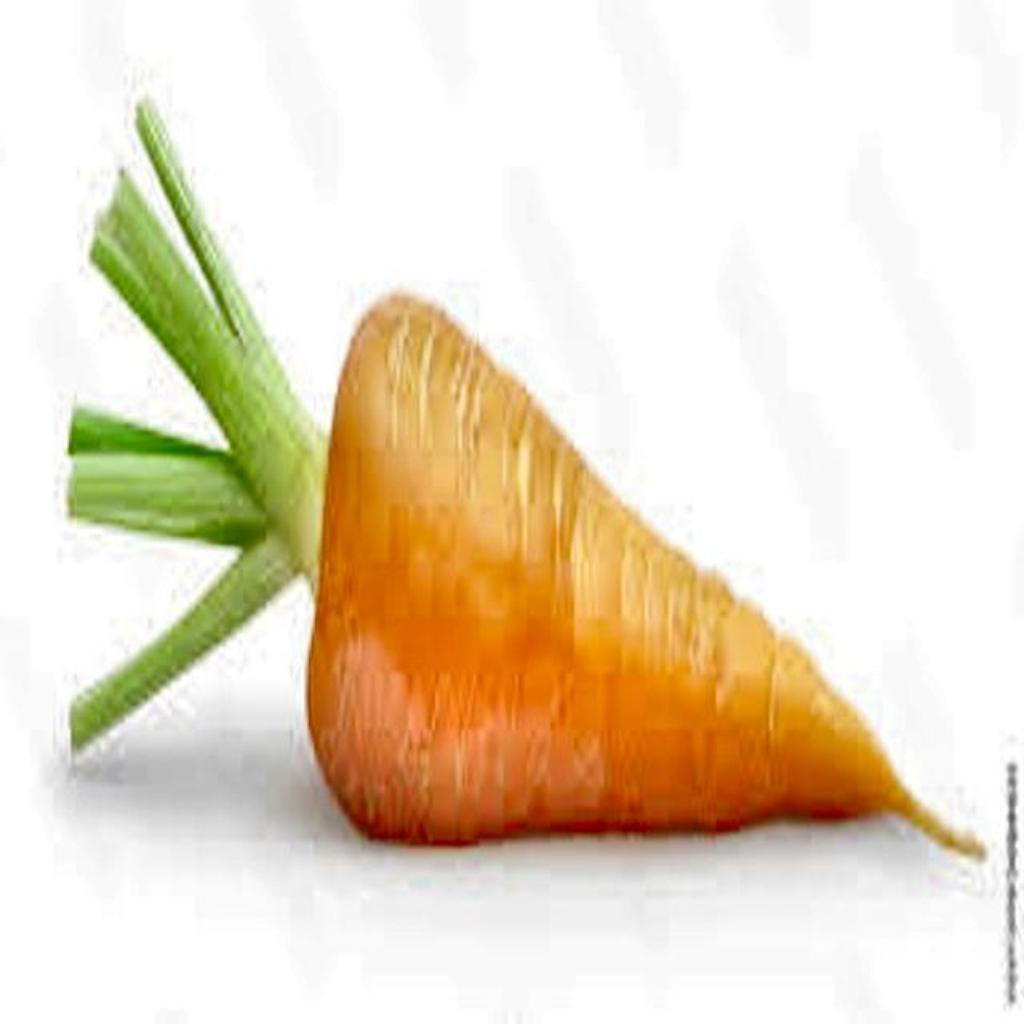carrot: (70, 104, 984, 857)
